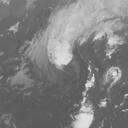cyclone: (43, 36, 86, 87)
